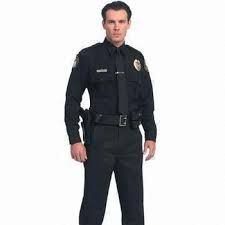gun: (79, 104, 93, 151)
uniform: (72, 34, 157, 222)
